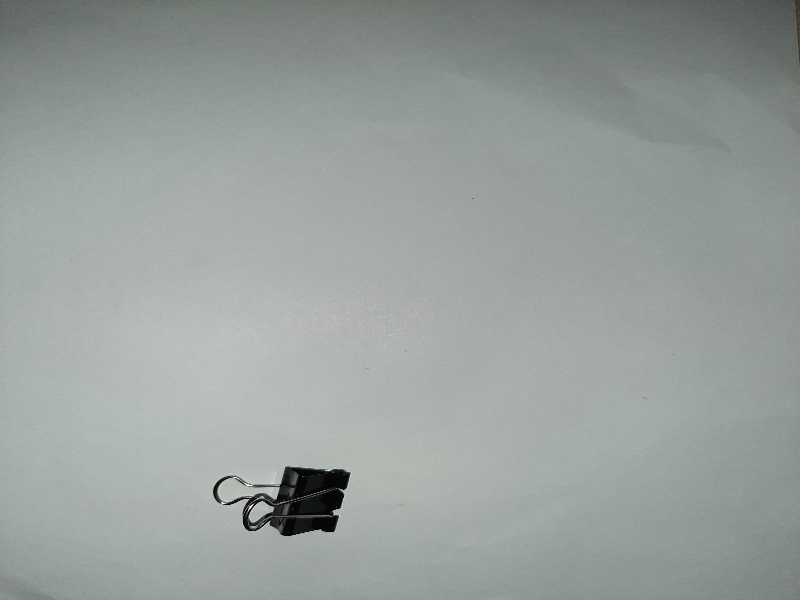Big Paperclip: (205, 456, 355, 545)
